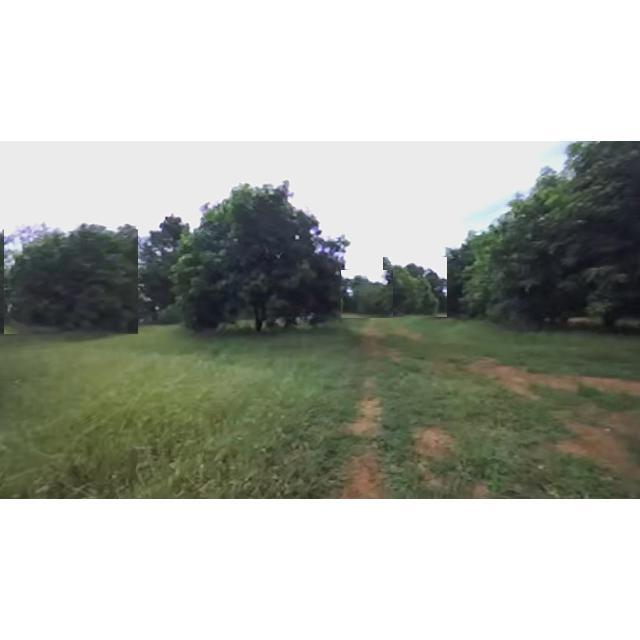direk: (180, 171, 358, 339), (500, 142, 640, 338), (3, 210, 138, 334), (456, 202, 544, 331), (134, 208, 210, 324), (383, 257, 447, 317), (341, 270, 393, 318)
